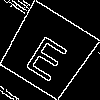E: (23, 26, 75, 83)
